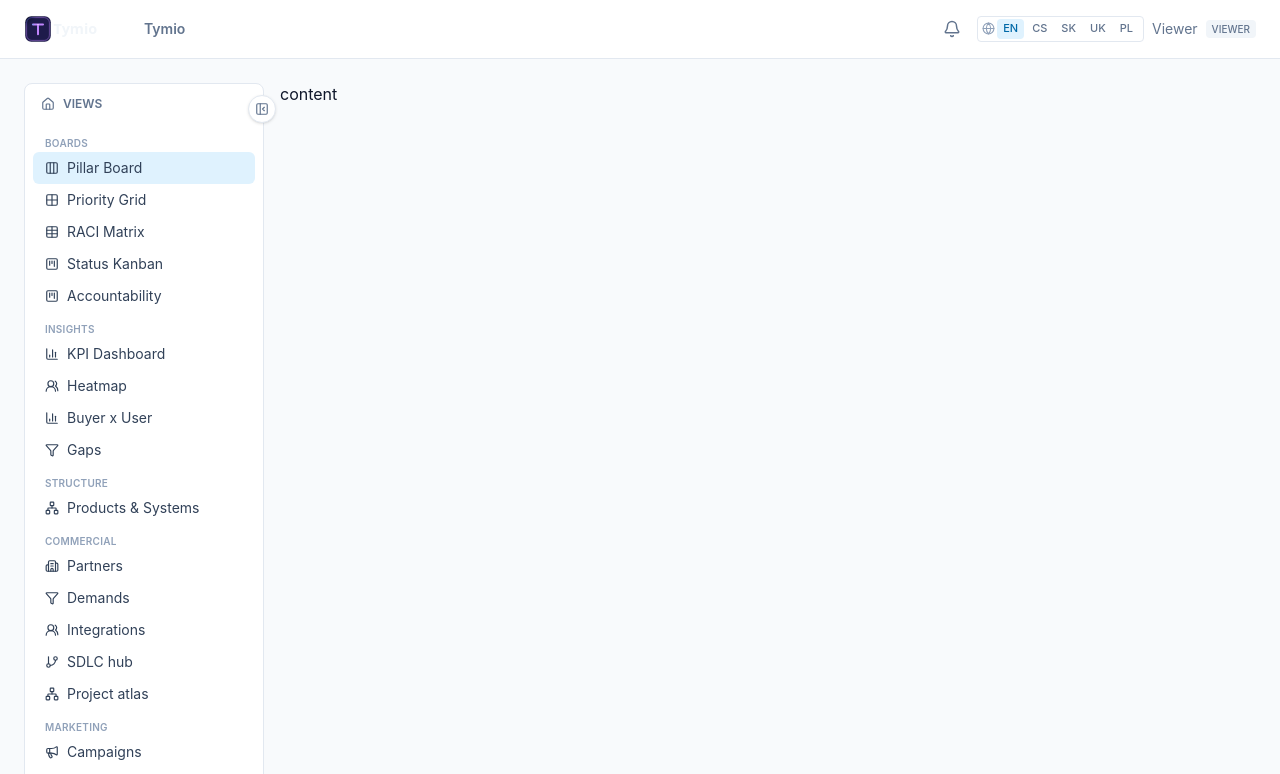
Test: AppShell sidebar collapse › persists collapse toggle to localStorage
Click the button named "collapse sidebar". click: [262, 109]
box: [248, 95, 276, 123]
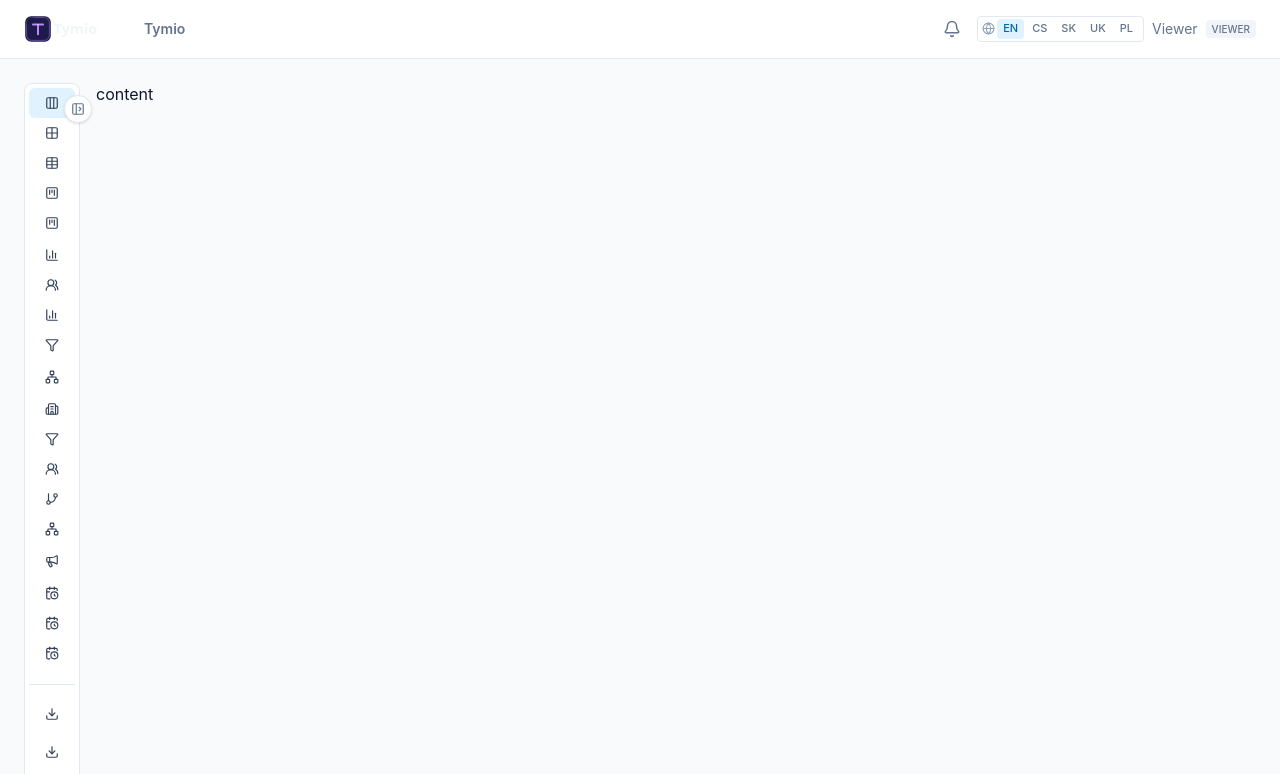
Result: the button named "collapse sidebar" is collapsed at [64, 95, 92, 123]
